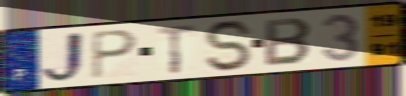3: (319, 12, 361, 65)
B: (263, 17, 314, 68)
J: (39, 30, 88, 85)
P: (90, 28, 140, 81)
S: (202, 19, 255, 74)
T: (155, 23, 198, 76)
